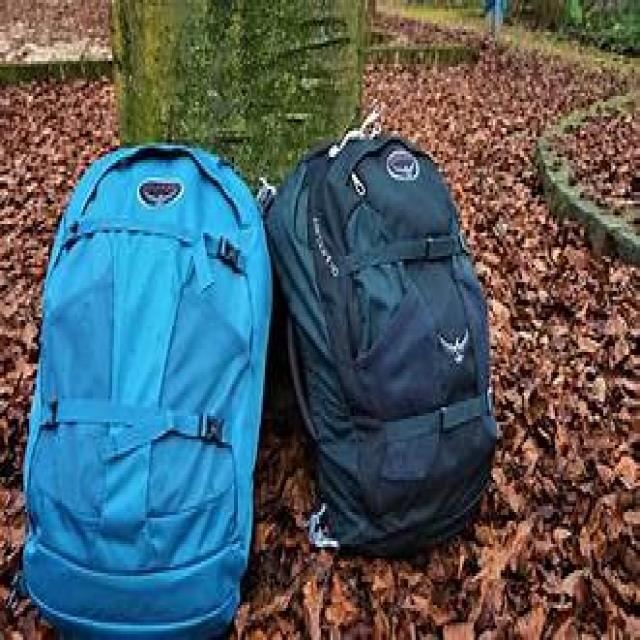backpack: (19, 141, 276, 638), (258, 129, 498, 560)
